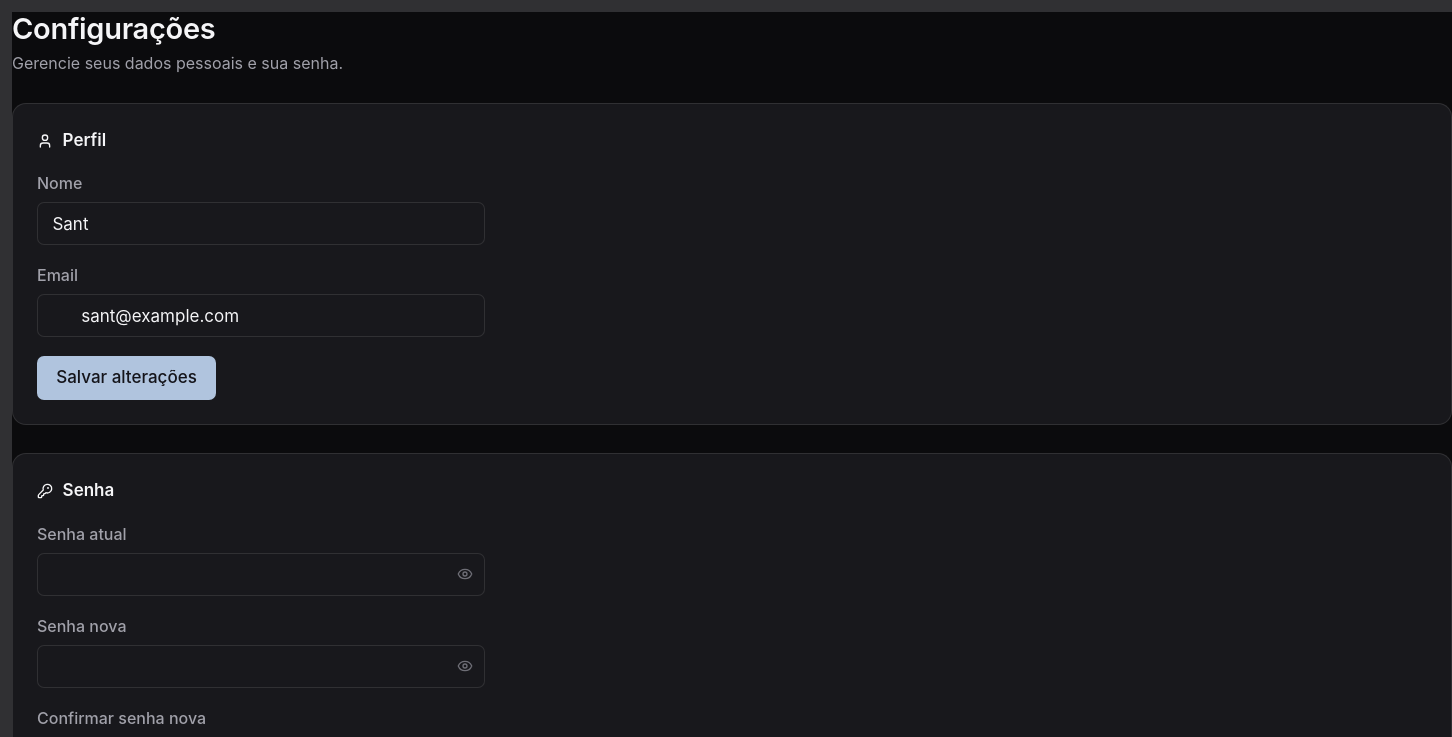
Test: ConfiguracoesPage › mapeia erro 409 de e-mail duplicado para o campo email
This screenshot has width=1452, height=737.
Expected: the field showing "Sant" is shown, x1=37 y1=202 x2=485 y2=245
Replace the text in the field labelled "Email" with "outro@example.com" at x=261, y=316, box x1=37 y1=294 x2=485 y2=337
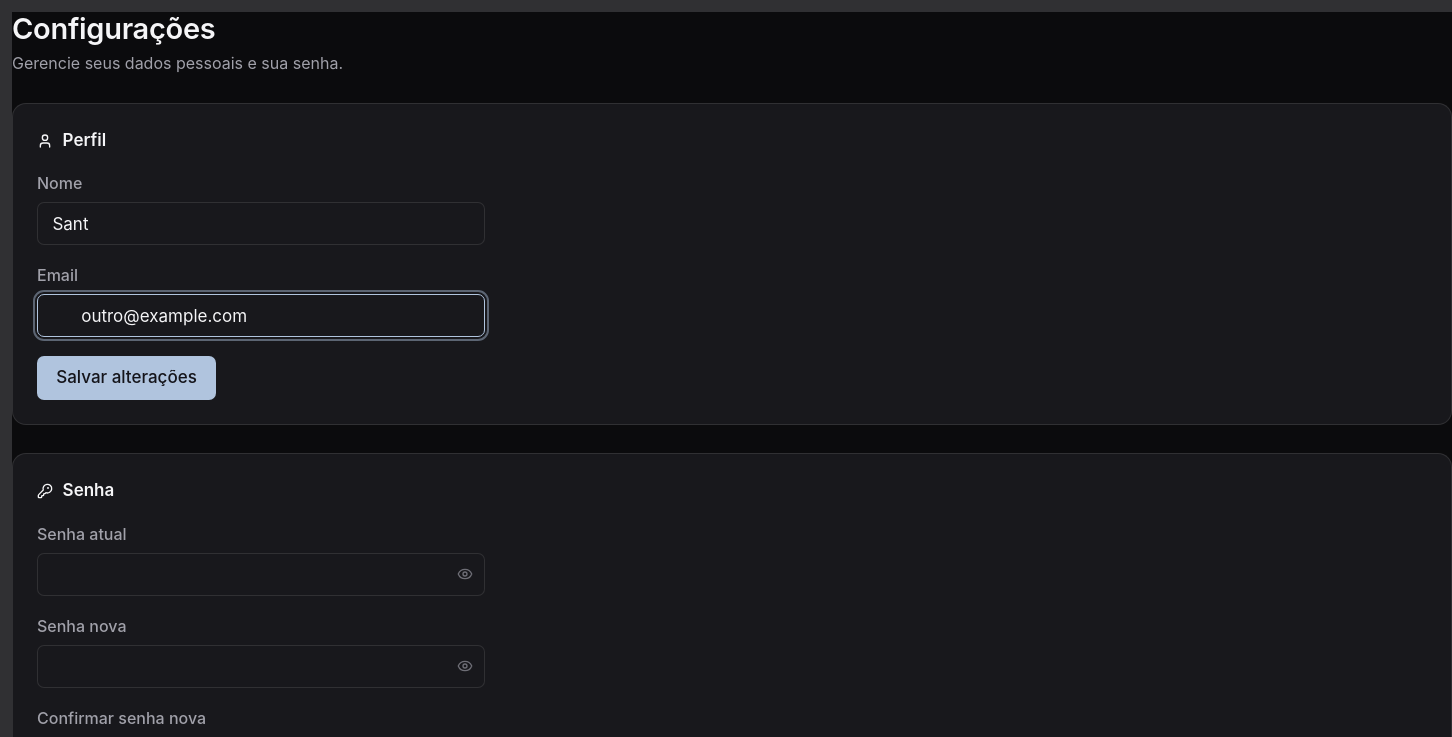
Click the button "Salvar alterações" at x=126, y=378, box x1=37 y1=356 x2=216 y2=400
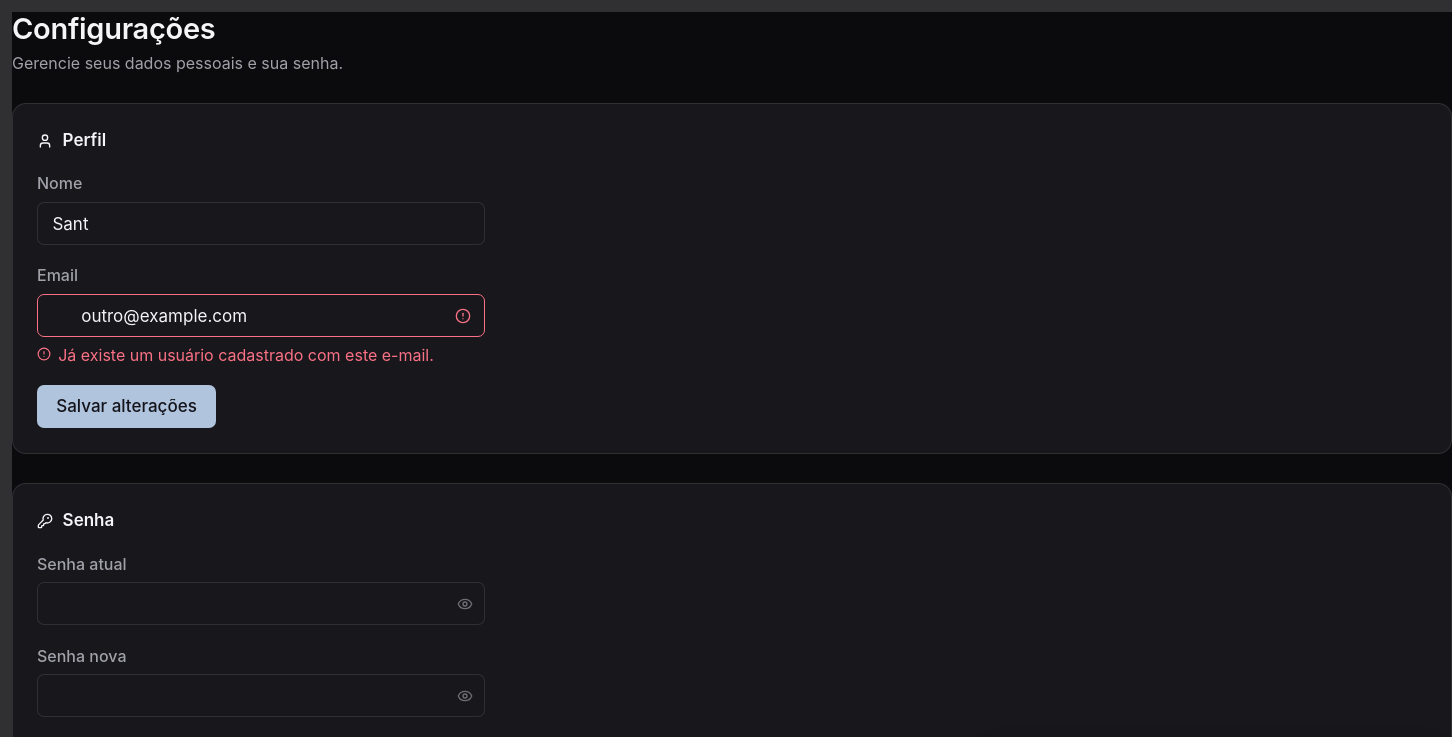
Expected: the message "Já existe um usuário cadastrado com este e-mail." below "Email" is shown, x1=58 y1=345 x2=434 y2=365
